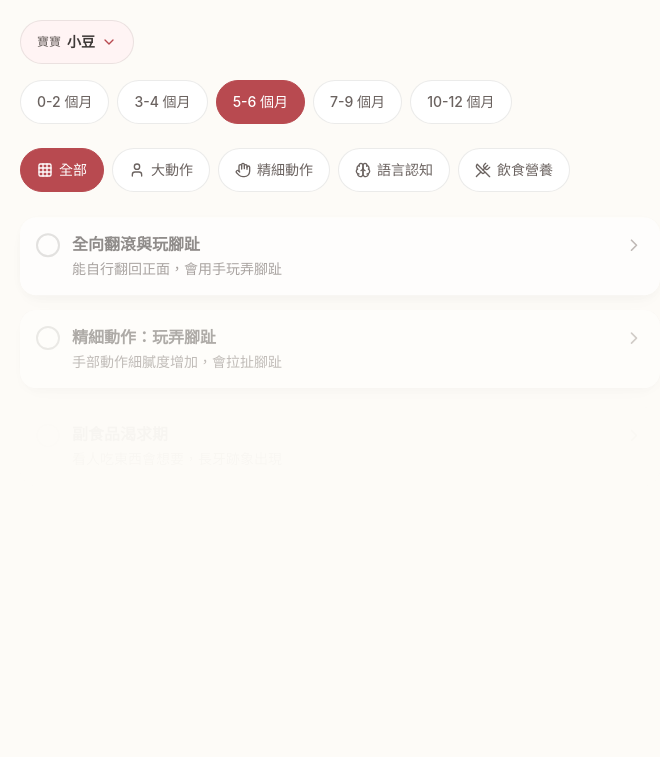
switching child on the milestones page › keeps a range the parent picked, rather than re-deriving over it
Click the button "0-2 個月" at (65, 102), box [20,80,110,124]
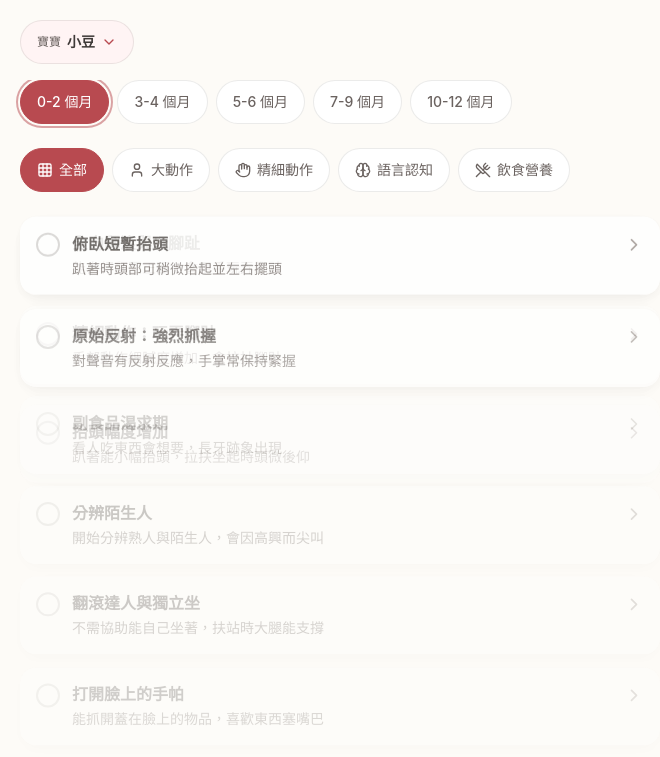
Expected: the button "0-2 個月" is pressed, [20,80,110,124]
Click the button "寶寶 小豆" at (77, 42), box [20,20,134,64]
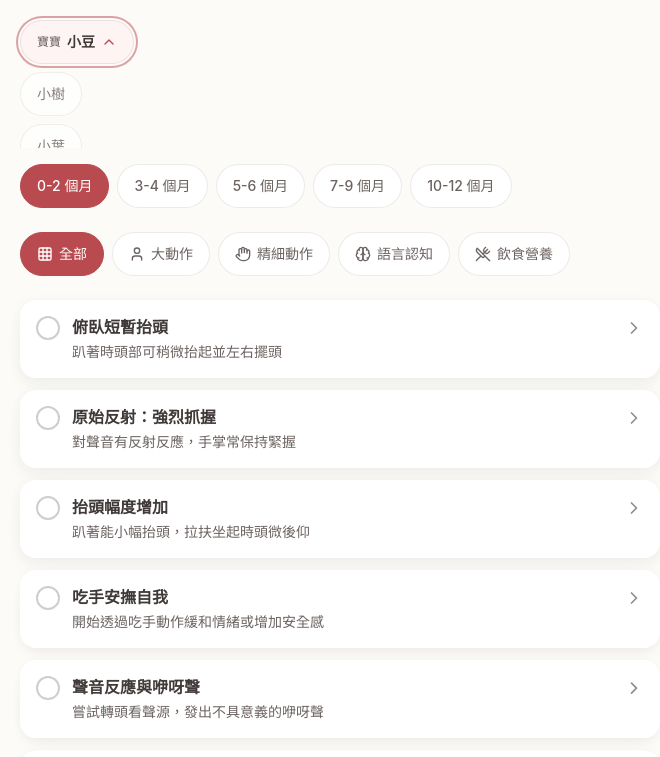
Click the button "小樹" at (51, 94), box [20,72,82,116]
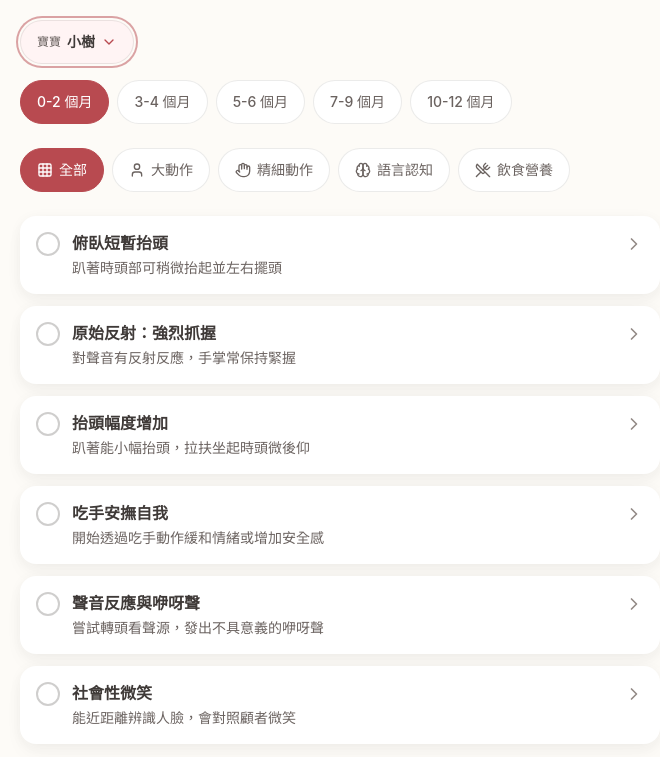
Expected: the button "寶寶 小樹" is shown, [20,20,134,64]
